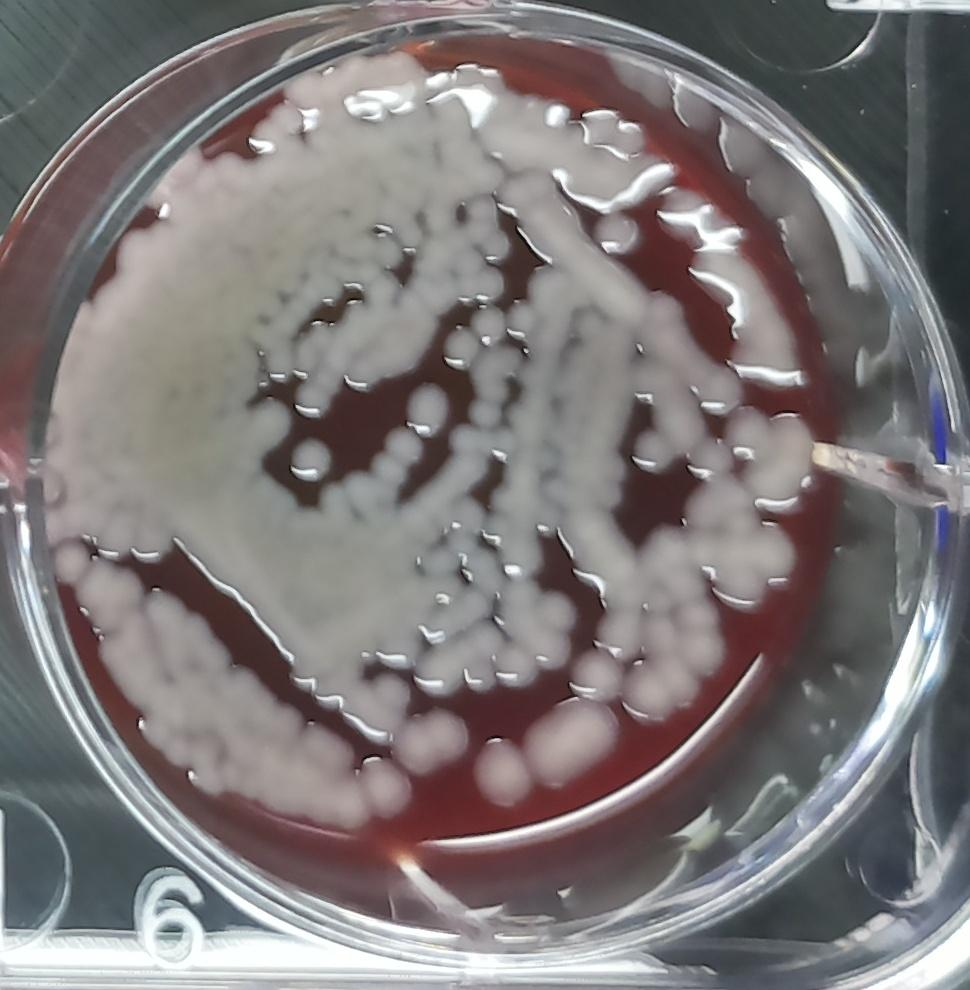ahydrophila: (721, 404, 819, 516), (522, 697, 625, 795), (386, 704, 473, 779), (465, 730, 542, 810), (565, 642, 624, 700), (401, 374, 451, 437), (628, 425, 678, 478), (285, 434, 332, 486), (593, 208, 643, 255), (492, 641, 542, 688), (440, 323, 484, 373), (379, 422, 426, 466), (468, 301, 509, 344)
